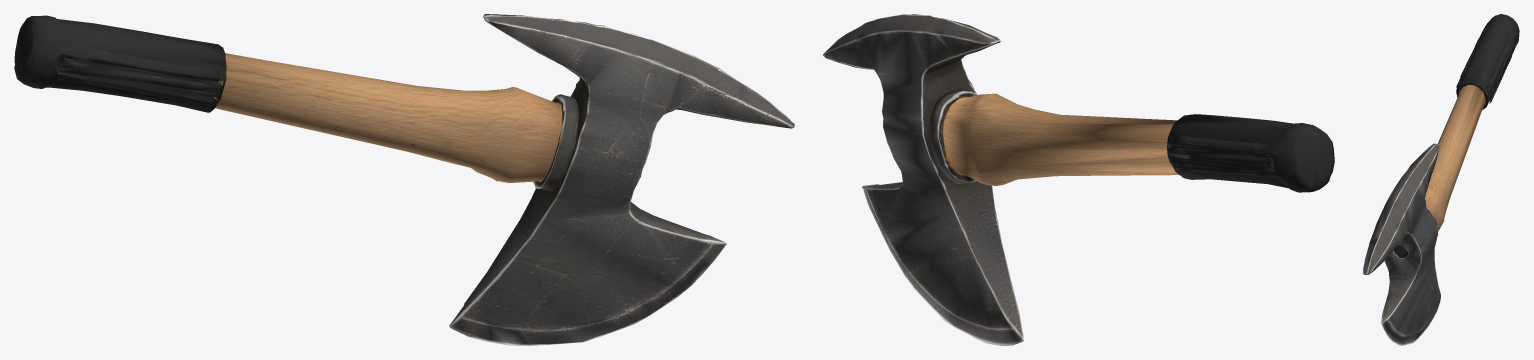
The model's file is axe.glb.
3 renders of one model, left to right at view 1: azimuth 30°, elevation 25°; view 2: azimuth 150°, elevation 25°; view 3: azimuth 270°, elevation 25°, orthographic. The views are drawn at different scales.
Parts seen in each view (by area): view 1: tripo_node_a908cb51-2dfc-4a64-975f-d5b4ef5246c1; view 2: tripo_node_a908cb51-2dfc-4a64-975f-d5b4ef5246c1; view 3: tripo_node_a908cb51-2dfc-4a64-975f-d5b4ef5246c1.
Boxes of the visible parts, x1=… form: tripo_node_a908cb51-2dfc-4a64-975f-d5b4ef5246c1: x1=14, y1=14, x2=794, y2=345; tripo_node_a908cb51-2dfc-4a64-975f-d5b4ef5246c1: x1=823, y1=14, x2=1334, y2=345; tripo_node_a908cb51-2dfc-4a64-975f-d5b4ef5246c1: x1=1363, y1=14, x2=1519, y2=345.
Bounding box in the file's own units: 1.1 × 0.6092 × 0.4198.
Materials: 1 (1 with a texture image).
